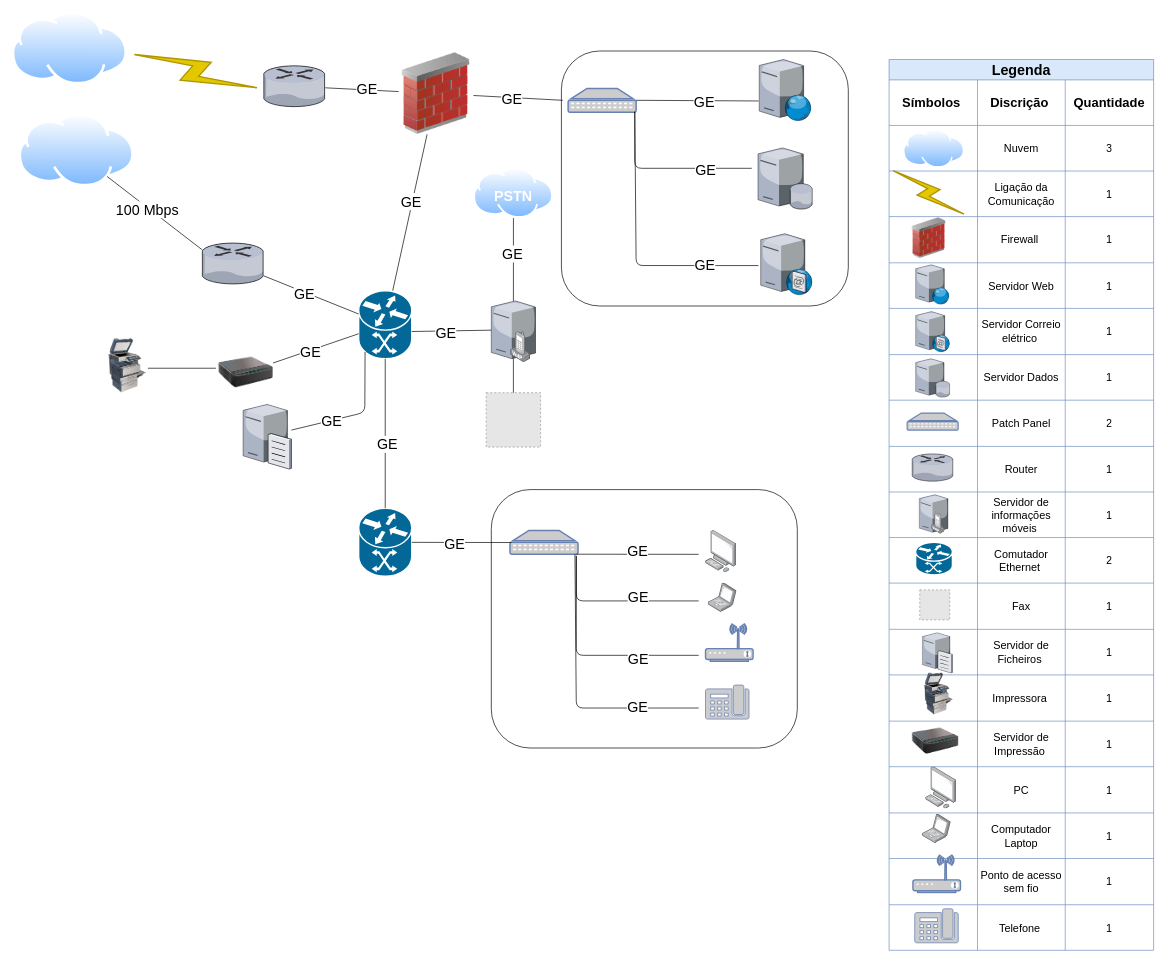
The diagram is 1166 pixels wide and 962 high, and some of its shapes have lost their labels. Grey dashed boxes stand in for pictures. The shapes that lost their labels are listed below. From the top down, each one's box as (x1, y1, x2, y2) in pixels, then its label:
(12, 12, 127, 84): Internet
(18, 114, 134, 186): Ligação a Filial
